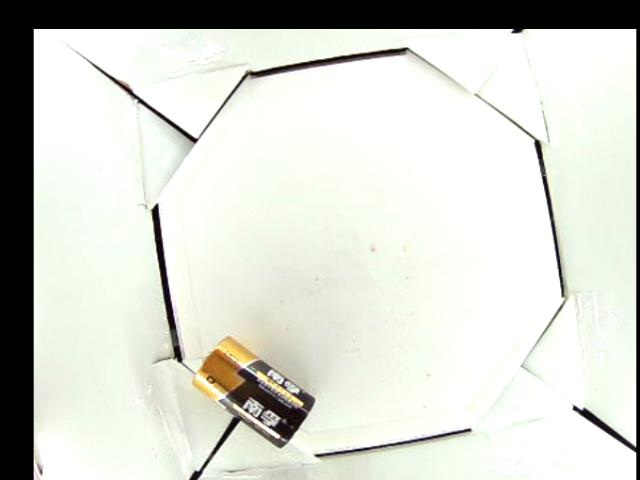Battery: (191, 335, 316, 447)
